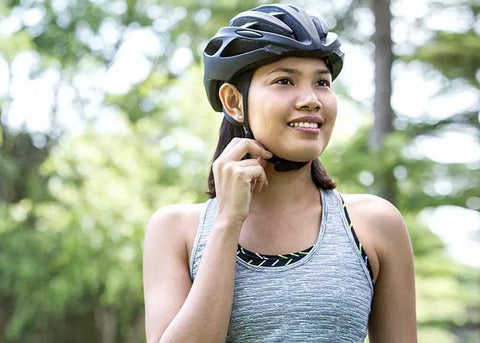helmet: (203, 3, 345, 162)
